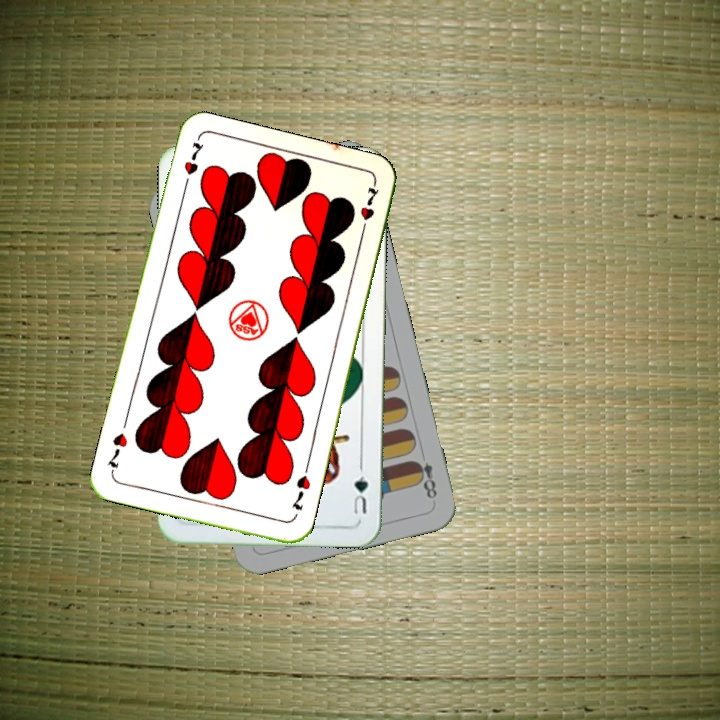E8: (410, 456, 440, 502)
GU: (349, 462, 371, 517)
H7: (179, 136, 207, 194), (287, 471, 313, 513)
